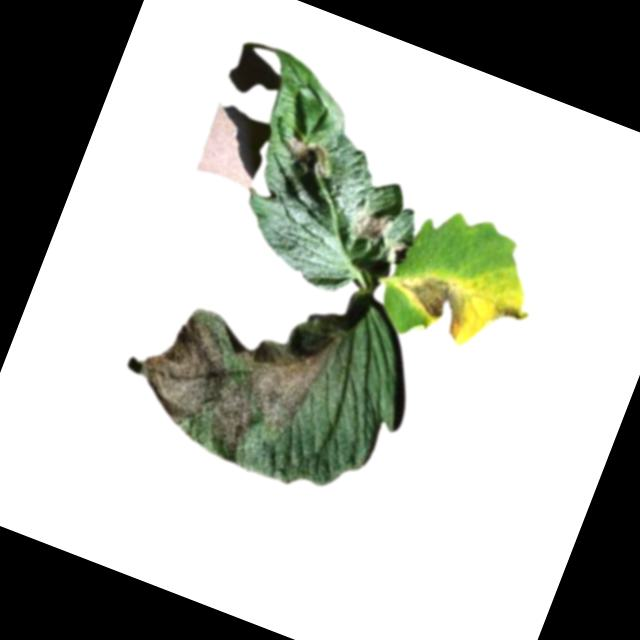Late_blight: (100, 246, 349, 477), (384, 266, 474, 343), (275, 133, 338, 181), (346, 201, 394, 247), (495, 302, 525, 326)
